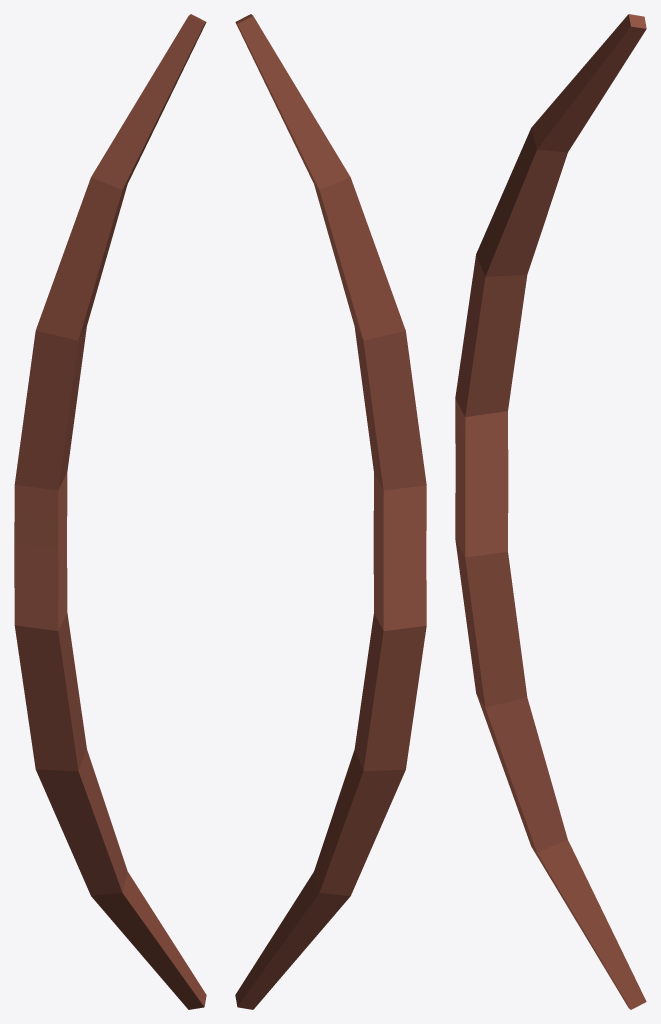
The model's file is bow_1-morph.glb.
The picture shows the model from 3 angles, left to right: view 1: azimuth 30°, elevation 25°; view 2: azimuth 150°, elevation 25°; view 3: azimuth 330°, elevation 25°; orthographic projection.
Parts seen in each view (by area): view 1: ProceduralBow; view 2: ProceduralBow; view 3: ProceduralBow.
Boxes of the visible parts, x1,y1,x2,y2 form: ProceduralBow: (14,14,206,1009); ProceduralBow: (235,14,426,1009); ProceduralBow: (455,14,646,1009).
Bounding box in the file's own units: 0.1733 × 0.8589 × 0.0519.
1 material, 1 textured.
